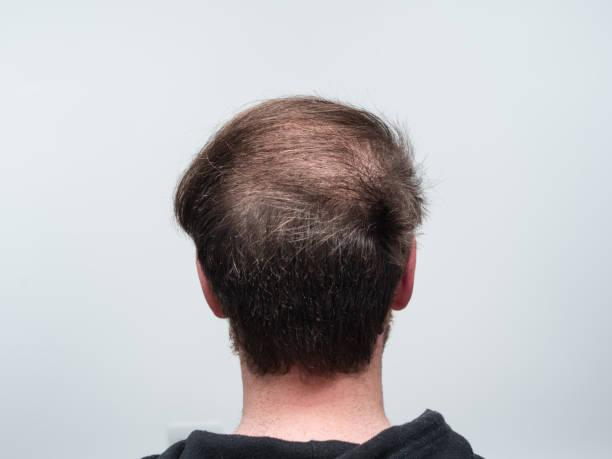grey hair: (254, 189, 325, 225), (251, 109, 317, 127), (301, 233, 370, 250), (383, 233, 412, 273), (199, 154, 223, 180), (225, 257, 243, 277)
low hair density: (228, 132, 386, 227)
